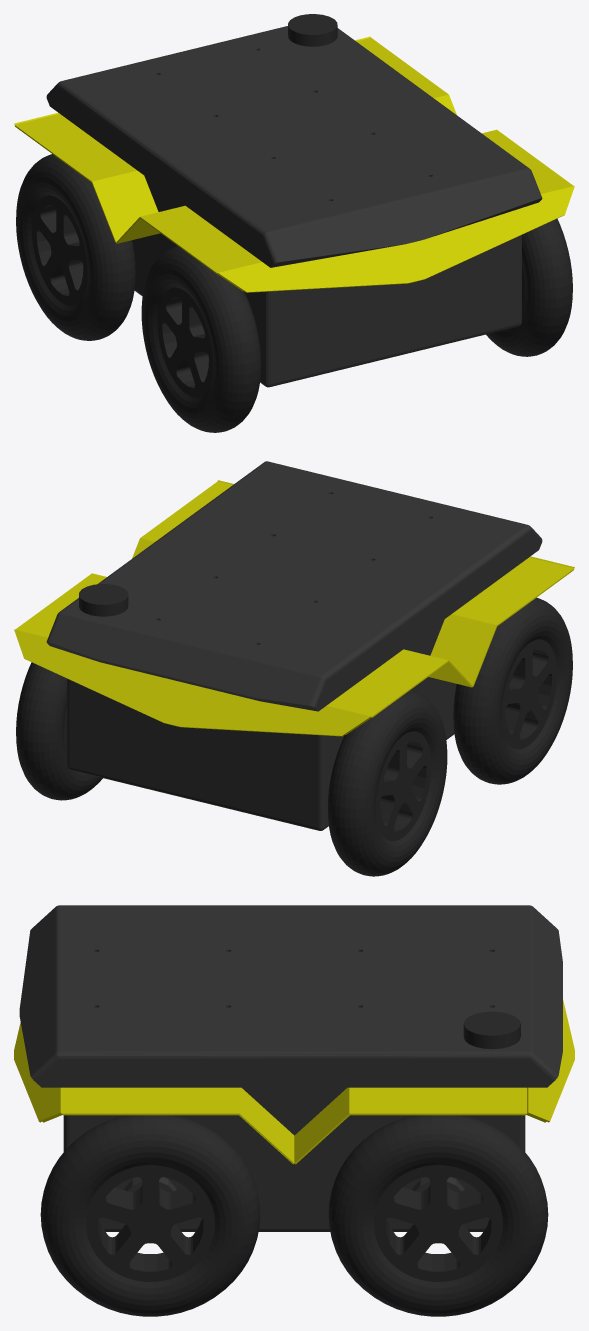
Rendered from jackal.fbx.
3 views of the same model, one above another, from view 1: azimuth 30°, elevation 25°; view 2: azimuth 150°, elevation 25°; view 3: azimuth 270°, elevation 25° (orthographic). The views are drawn at different scales.
Parts seen in each view (by area): view 1: jackal_base, jackal_wheel_0_2, jackal_fender_0_1, jackal_wheel, jackal_fender, jackal_wheel_0_3, Cylinder; view 2: jackal_base, jackal_fender, jackal_wheel, jackal_wheel_0_2, jackal_fender_0_1, jackal_wheel_0_1, Cylinder; view 3: jackal_base, jackal_wheel_0_1, jackal_wheel_0_3, jackal_fender, jackal_fender_0_1, Cylinder.
Part boxes in pixels (x1=…): jackal_base: x1=46, y1=26, x2=542, y2=387; jackal_wheel_0_2: x1=141, y1=246, x2=261, y2=432; jackal_fender_0_1: x1=116, y1=129, x2=574, y2=292; jackal_wheel: x1=16, y1=154, x2=135, y2=340; jackal_fender: x1=14, y1=36, x2=456, y2=242; jackal_wheel_0_3: x1=486, y1=218, x2=572, y2=356; Cylinder: x1=288, y1=14, x2=337, y2=46; jackal_base: x1=46, y1=461, x2=542, y2=830; jackal_fender: x1=14, y1=573, x2=472, y2=736; jackal_wheel: x1=327, y1=689, x2=447, y2=876; jackal_wheel_0_2: x1=453, y1=597, x2=572, y2=784; jackal_fender_0_1: x1=132, y1=480, x2=574, y2=686; jackal_wheel_0_1: x1=16, y1=662, x2=102, y2=800; Cylinder: x1=79, y1=584, x2=128, y2=616; jackal_base: x1=19, y1=905, x2=562, y2=1231; jackal_wheel_0_1: x1=328, y1=1115, x2=548, y2=1316; jackal_wheel_0_3: x1=40, y1=1115, x2=260, y2=1316; jackal_fender: x1=294, y1=1000, x2=574, y2=1164; jackal_fender_0_1: x1=14, y1=1022, x2=294, y2=1164; Cylinder: x1=463, y1=1011, x2=520, y2=1049.
Size of the model in its own units: 43 by 26.28 by 51.06.
